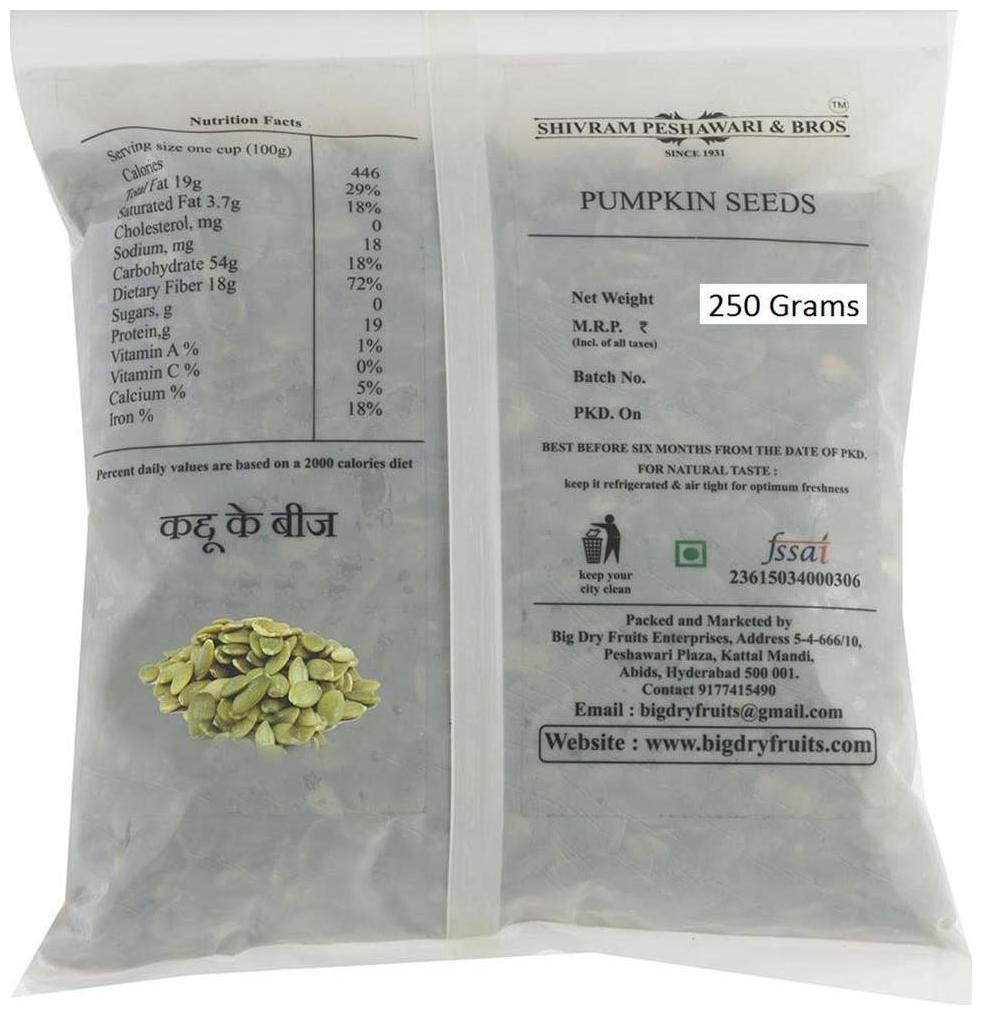fssai: (758, 524, 835, 566)
